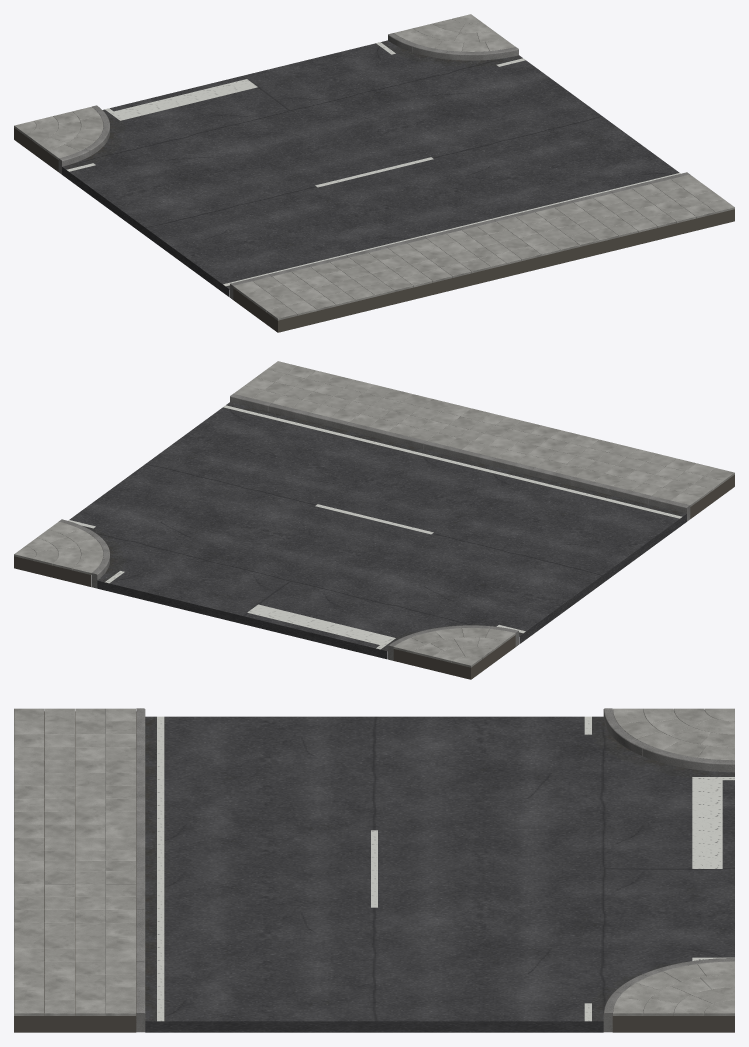
File: road-t-junction.glb
3 views of the same model, one above another, from view 1: azimuth 30°, elevation 25°; view 2: azimuth 150°, elevation 25°; view 3: azimuth 270°, elevation 25° (orthographic). The views are drawn at different scales.
Visible parts, largest first — view 1: road-t-junction_asphalt, road-t-junction_paving_slabs, road-t-junction_bedding, road-t-junction_curb, road-t-junction_road_marking; view 2: road-t-junction_asphalt, road-t-junction_paving_slabs, road-t-junction_curb, road-t-junction_road_marking, road-t-junction_bedding; view 3: road-t-junction_asphalt, road-t-junction_paving_slabs, road-t-junction_road_marking, road-t-junction_curb, road-t-junction_bedding.
Boxes of the visible parts, x1,y1,x2,y2 form: road-t-junction_asphalt: (62,40,679,297); road-t-junction_paving_slabs: (14,14,734,320); road-t-junction_bedding: (14,128,734,332); road-t-junction_curb: (58,33,689,299); road-t-junction_road_marking: (66,42,680,286); road-t-junction_asphalt: (69,402,686,659); road-t-junction_paving_slabs: (14,361,734,667); road-t-junction_curb: (59,394,690,660); road-t-junction_road_marking: (68,405,682,649); road-t-junction_bedding: (14,474,734,679); road-t-junction_asphalt: (145,716,734,1032); road-t-junction_paving_slabs: (14,708,734,1015); road-t-junction_road_marking: (157,716,734,1021); road-t-junction_curb: (136,708,734,1032); road-t-junction_bedding: (14,711,734,1032).
Bounding box in the file's own units: 11.8 × 0.35 × 11.8.
5 materials, 4 textured.
